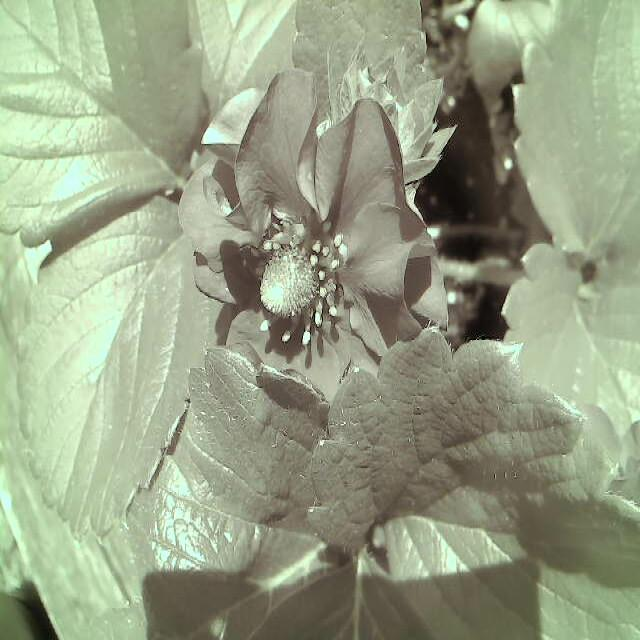flower: (176, 62, 452, 410)
